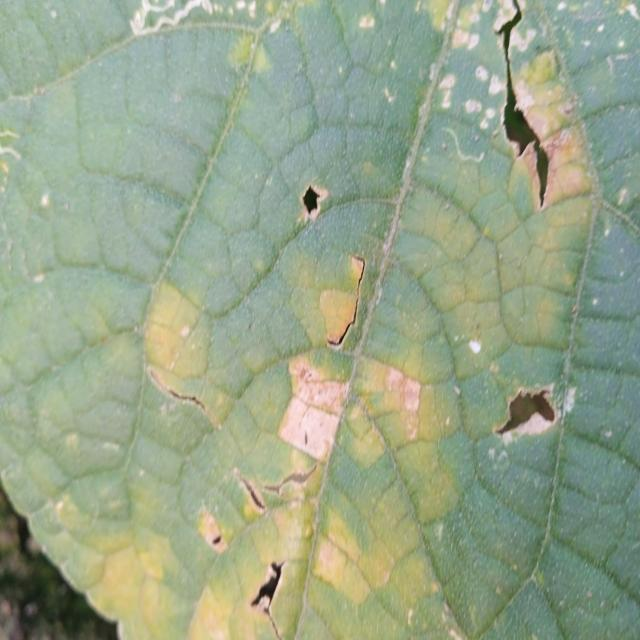cucumber_anthracnose: (143, 8, 621, 624)
